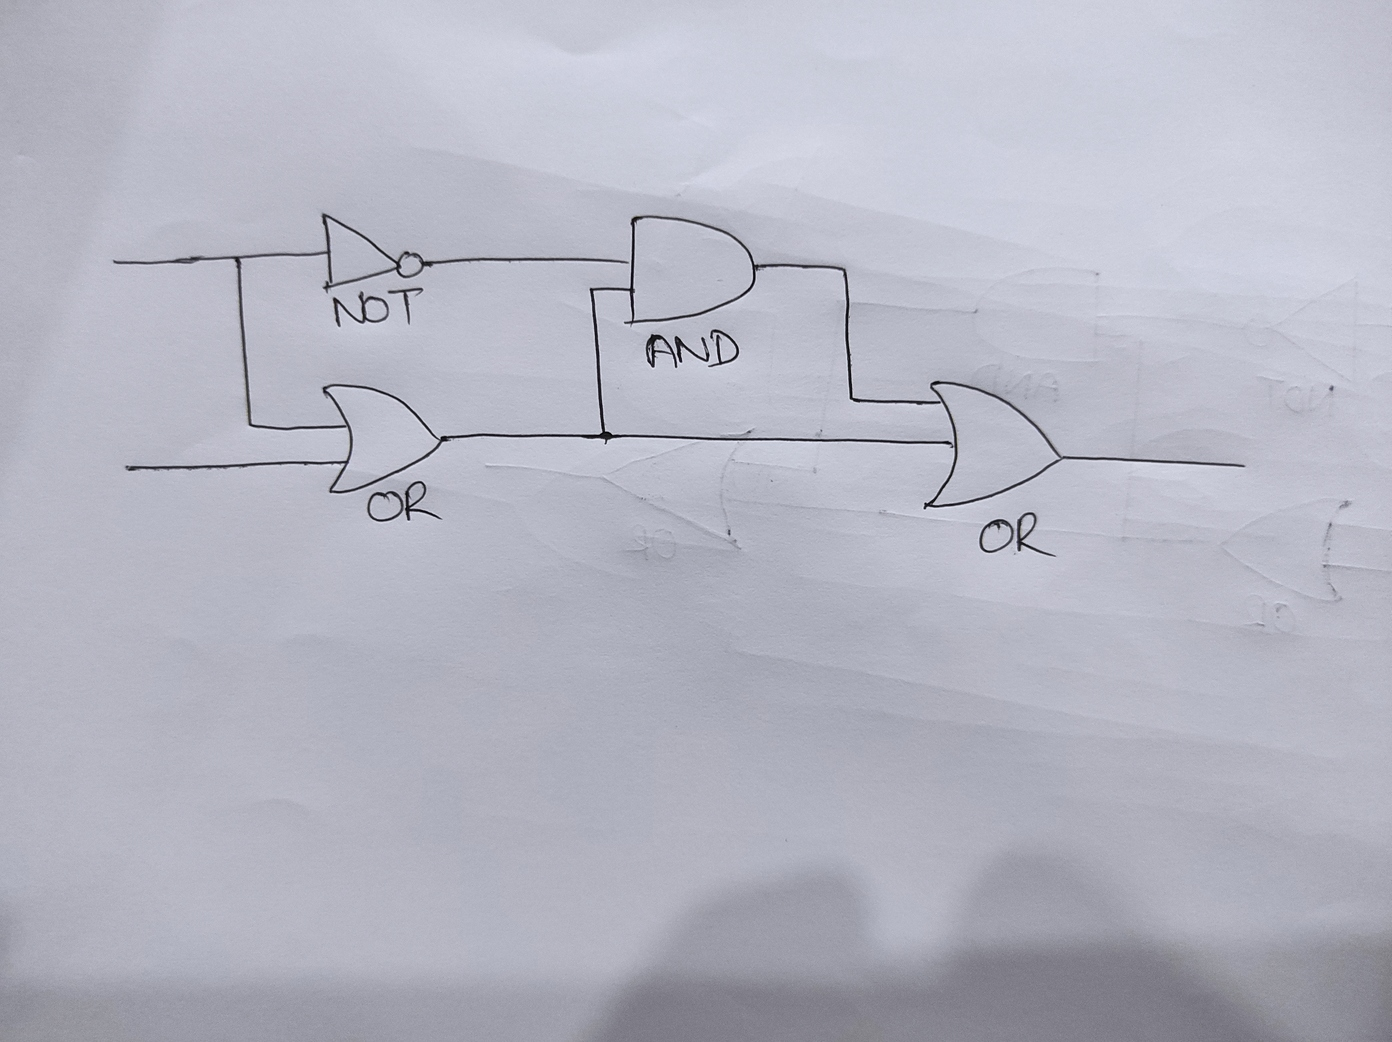and: (623, 210, 759, 328)
junction: (831, 256, 857, 282), (222, 248, 251, 271), (840, 390, 863, 412), (594, 425, 615, 445), (239, 415, 260, 435), (584, 281, 602, 299)
not: (320, 210, 427, 296)
or: (919, 377, 1065, 512), (320, 379, 451, 496)
terminal: (106, 252, 134, 271), (117, 458, 140, 478), (1233, 458, 1252, 474)
text: (641, 327, 742, 370), (975, 513, 1062, 561), (330, 287, 425, 328), (366, 481, 442, 526)
